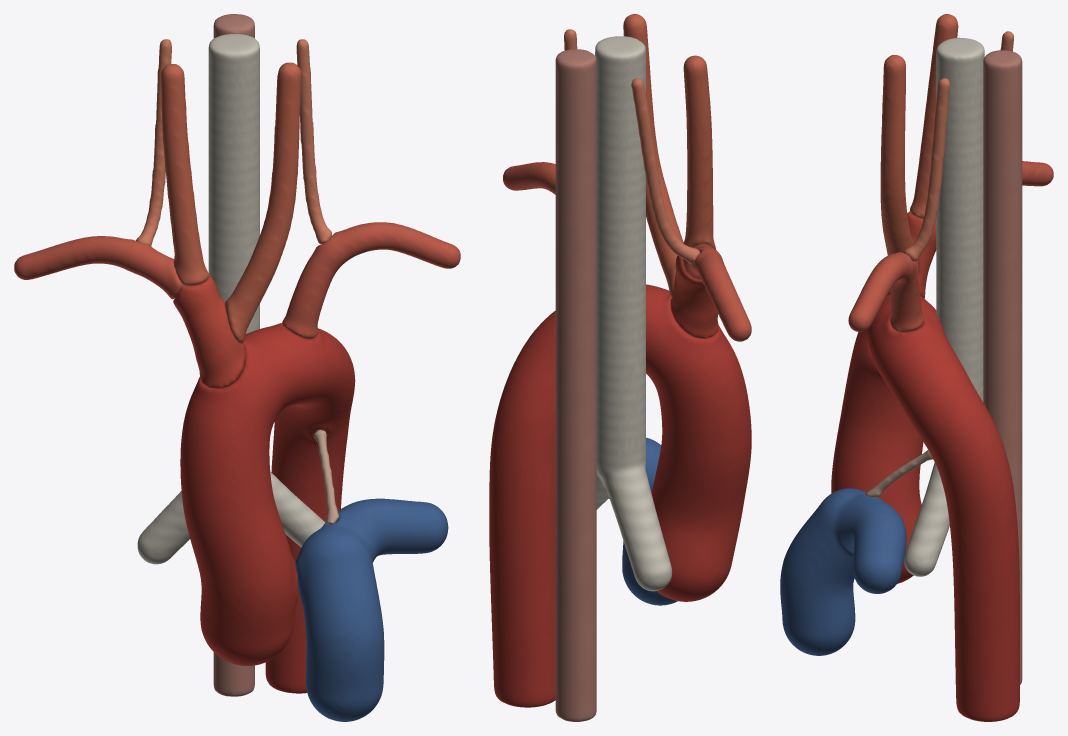
File: aorta_bovine.glb
3 renders of one model, left to right at view 1: azimuth 30°, elevation 25°; view 2: azimuth 150°, elevation 25°; view 3: azimuth 270°, elevation 25°, orthographic. The views are drawn at different scales.
Visible parts, largest first — view 1: aorta, pulmonary_trunk, trachea, left_common_carotid, left_subclavian, right_common_carotid, right_subclavian, brachiocephalic_trunk, left_vertebral, oesophagus, right_vertebral, ligamentum_arteriosum; view 2: aorta, oesophagus, trachea, right_common_carotid, right_subclavian, left_common_carotid, right_vertebral, brachiocephalic_trunk, pulmonary_trunk, left_subclavian; view 3: aorta, trachea, oesophagus, pulmonary_trunk, left_common_carotid, left_subclavian, right_common_carotid, left_vertebral, brachiocephalic_trunk, right_subclavian, ligamentum_arteriosum.
Boxes of the visible parts, x1=… form: aorta: x1=180, y1=323, x2=355, y2=693; pulmonary_trunk: x1=295, y1=498, x2=448, y2=721; trachea: x1=137, y1=34, x2=325, y2=564; left_common_carotid: x1=225, y1=62, x2=301, y2=343; left_subclavian: x1=282, y1=222, x2=460, y2=339; right_common_carotid: x1=161, y1=64, x2=209, y2=285; right_subclavian: x1=14, y1=236, x2=189, y2=299; brachiocephalic_trunk: x1=173, y1=275, x2=245, y2=388; left_vertebral: x1=296, y1=39, x2=331, y2=244; oesophagus: x1=213, y1=14, x2=254, y2=696; right_vertebral: x1=136, y1=39, x2=171, y2=246; ligamentum_arteriosum: x1=314, y1=429, x2=338, y2=524; aorta: x1=489, y1=284, x2=751, y2=707; oesophagus: x1=555, y1=49, x2=596, y2=721; trachea: x1=595, y1=36, x2=672, y2=591; right_common_carotid: x1=683, y1=55, x2=715, y2=249; right_subclavian: x1=682, y1=244, x2=751, y2=341; left_common_carotid: x1=623, y1=14, x2=683, y2=296; right_vertebral: x1=631, y1=78, x2=700, y2=264; brachiocephalic_trunk: x1=670, y1=250, x2=718, y2=338; pulmonary_trunk: x1=609, y1=437, x2=677, y2=605; left_subclavian: x1=503, y1=162, x2=555, y2=194; aorta: x1=831, y1=294, x2=1019, y2=721; trachea: x1=904, y1=37, x2=984, y2=576; oesophagus: x1=983, y1=50, x2=1022, y2=684; pulmonary_trunk: x1=780, y1=488, x2=906, y2=655; left_common_carotid: x1=880, y1=55, x2=918, y2=273; left_subclavian: x1=848, y1=252, x2=924, y2=332; right_common_carotid: x1=910, y1=14, x2=958, y2=218; left_vertebral: x1=903, y1=78, x2=950, y2=261; brachiocephalic_trunk: x1=887, y1=211, x2=936, y2=298; right_subclavian: x1=1022, y1=161, x2=1053, y2=186; ligamentum_arteriosum: x1=865, y1=450, x2=932, y2=497.
Size of the model in its own units: 12.31 by 22.78 by 8.97.
